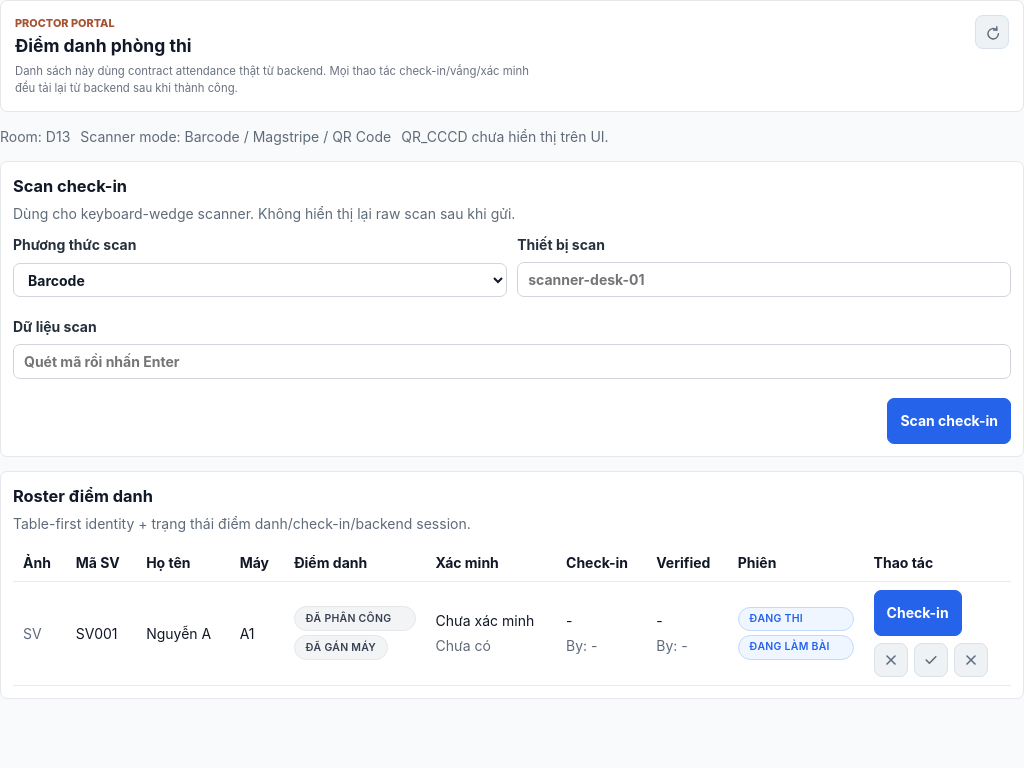
Test: Phase 2B proctor pages › manual check-in success refreshes attendance list
Expected: the text "SV001" is shown, [66,581,136,685]
Click the button "Check-in".
click(918, 612)  # box [874,590,962,636]
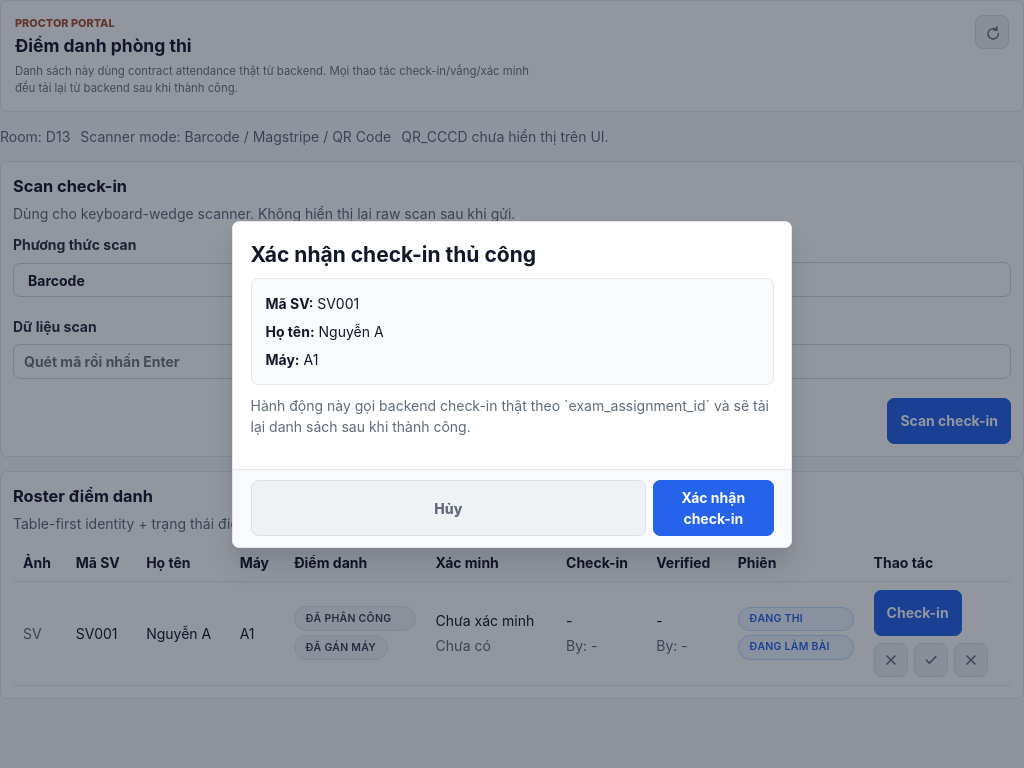
Click the button "Xác nhận check-in".
click(713, 508)  # box [653,480,774,536]
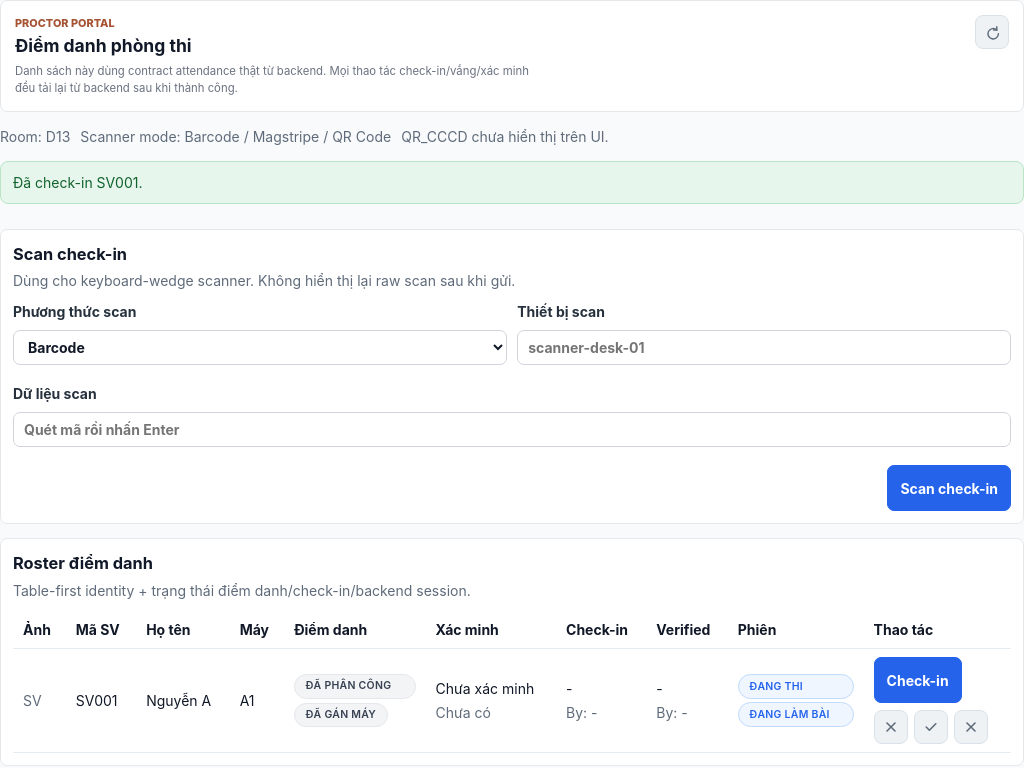
Expected: the text "Đã check-in SV001." is shown, [0,161,1023,204]
